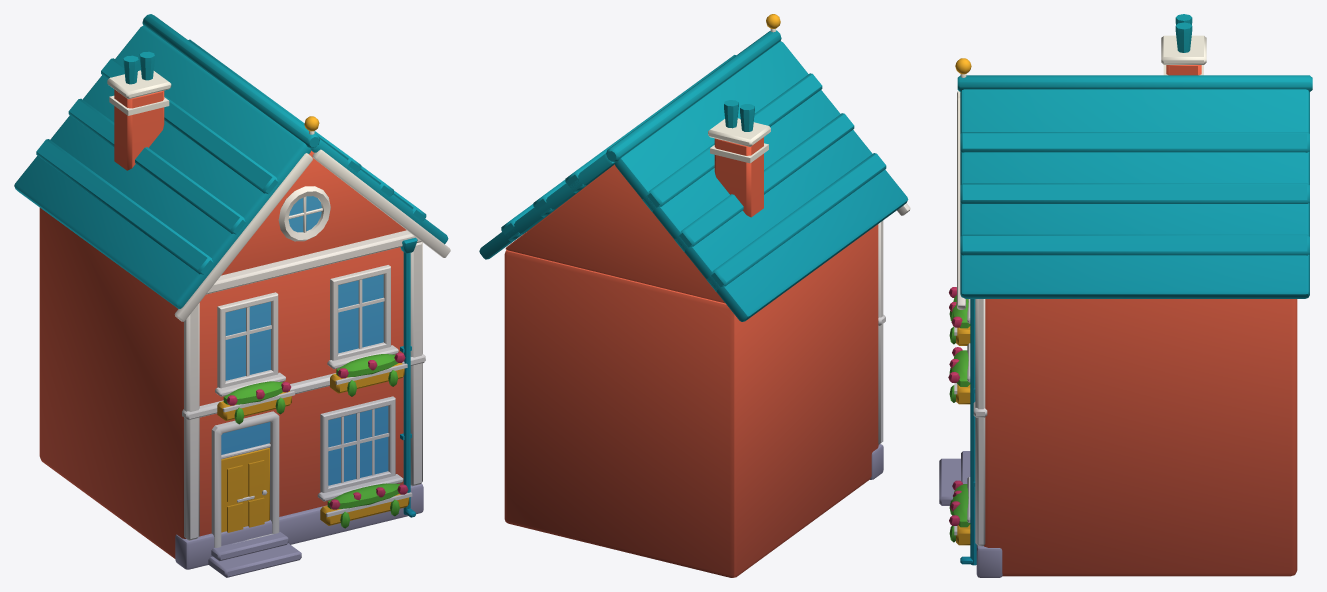
The model's file is house_a.glb.
3 renders of one model, left to right at view 1: azimuth 30°, elevation 25°; view 2: azimuth 150°, elevation 25°; view 3: azimuth 270°, elevation 25°, orthographic. The views are drawn at different scales.
Parts seen in each view (by area): view 1: house_a; view 2: house_a; view 3: house_a.
Part boxes in pixels (x1,y1,x2,y2): house_a: (14,14,450,577); house_a: (479,14,910,577); house_a: (939,14,1312,577).
Bounding box in the file's own units: 5.35 × 8.05 × 5.92.
